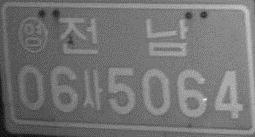0: (141, 68, 171, 116), (18, 64, 46, 111)
4: (213, 69, 243, 118)
5: (106, 66, 137, 115)
6: (176, 68, 208, 118), (50, 64, 78, 114)
사: (82, 69, 103, 111)
영: (17, 15, 49, 54)
전남_D: (58, 16, 188, 58)
